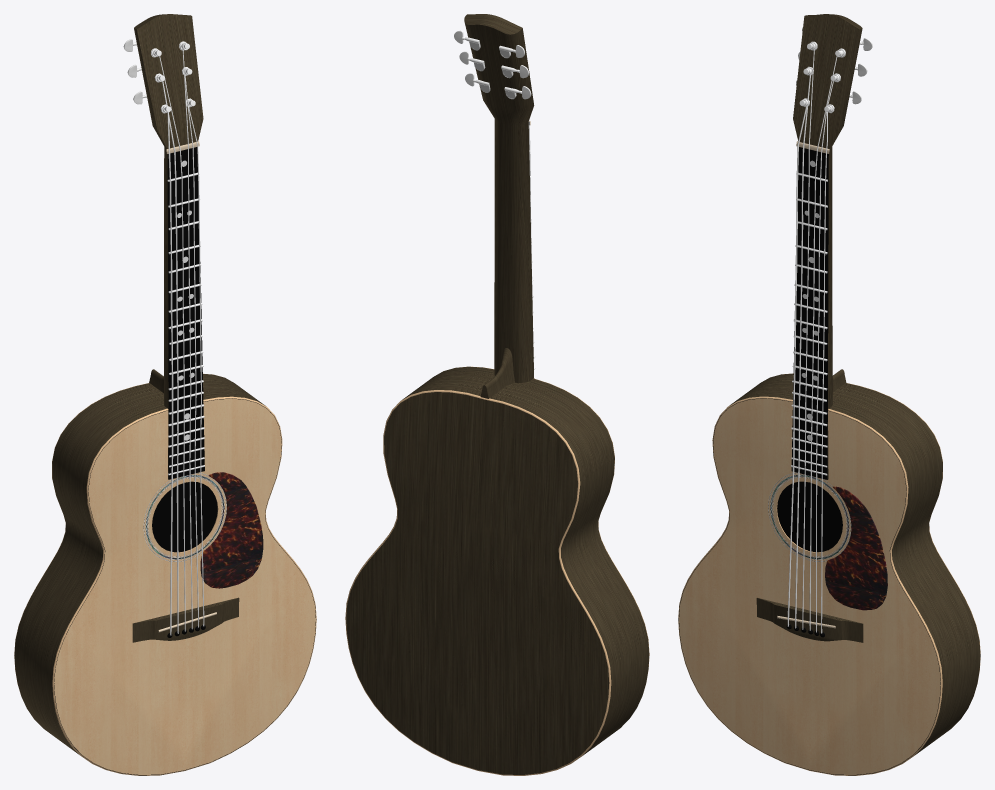
File: GuitarBooth.fbx
3 views of the same model, side by side, from view 1: azimuth 30°, elevation 25°; view 2: azimuth 150°, elevation 25°; view 3: azimuth 330°, elevation 25° (orthographic).
Visible parts, largest first — view 1: Guitar; view 2: Guitar; view 3: Guitar.
Part boxes in pixels (x1,y1,x2,y2): Guitar: (14,14,316,775); Guitar: (345,14,649,775); Guitar: (678,14,980,775).
Size of the model in its own units: 182 by 489 by 51.53.
